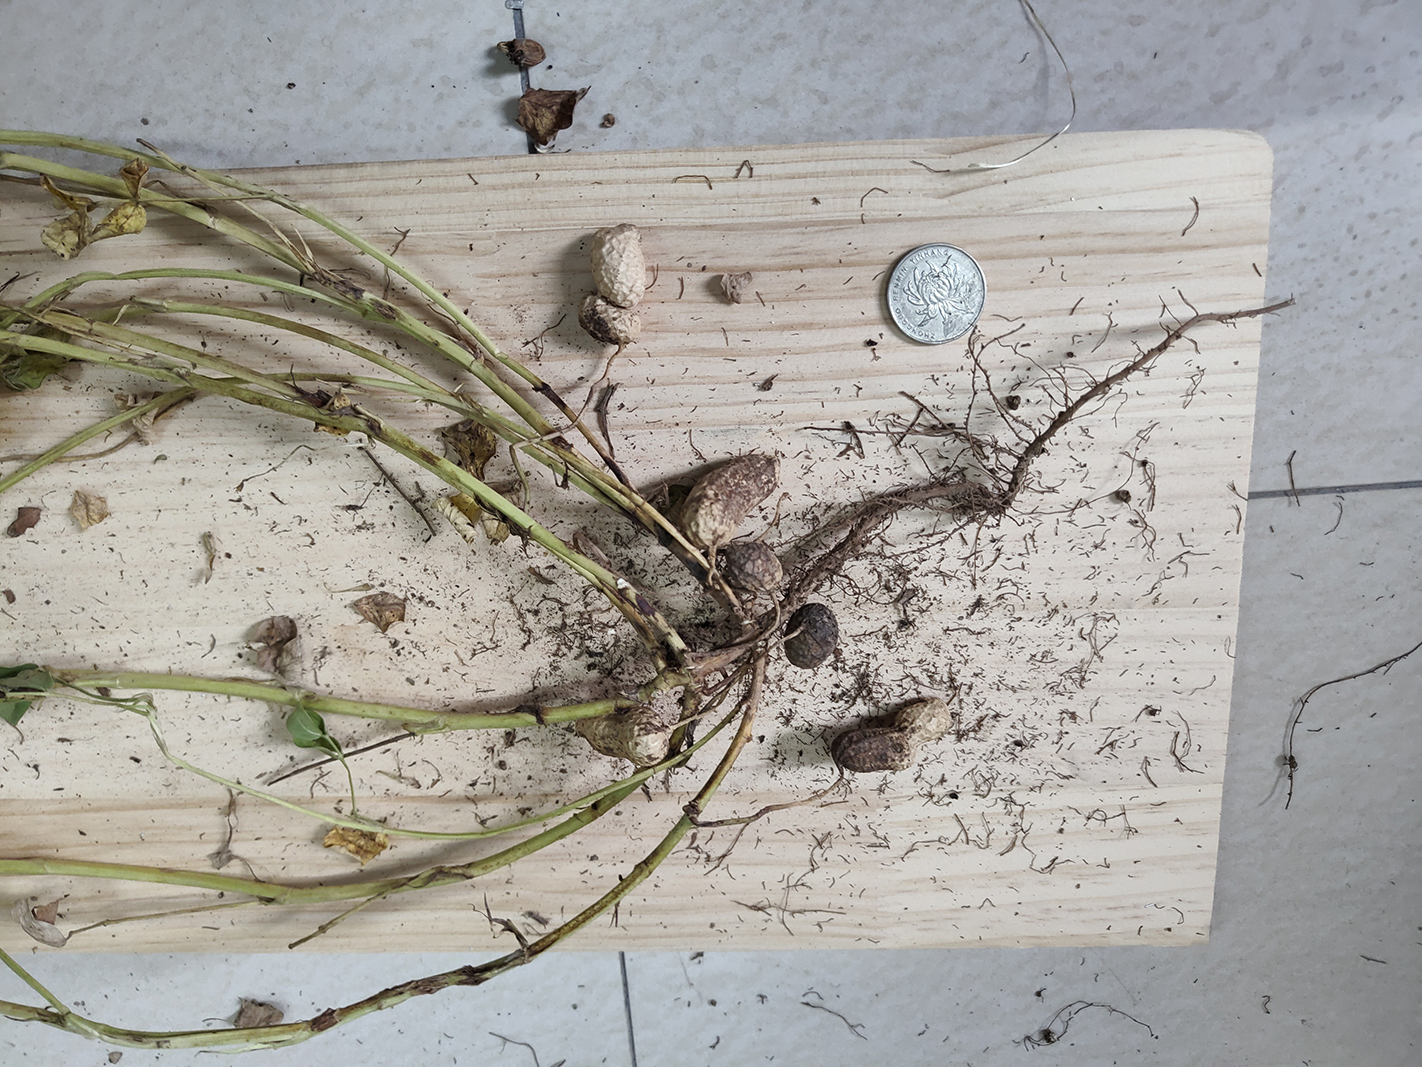h: (580, 222, 648, 344), (573, 713, 670, 764)
l: (684, 452, 779, 546), (831, 699, 948, 773), (784, 605, 839, 668), (726, 542, 784, 590)
